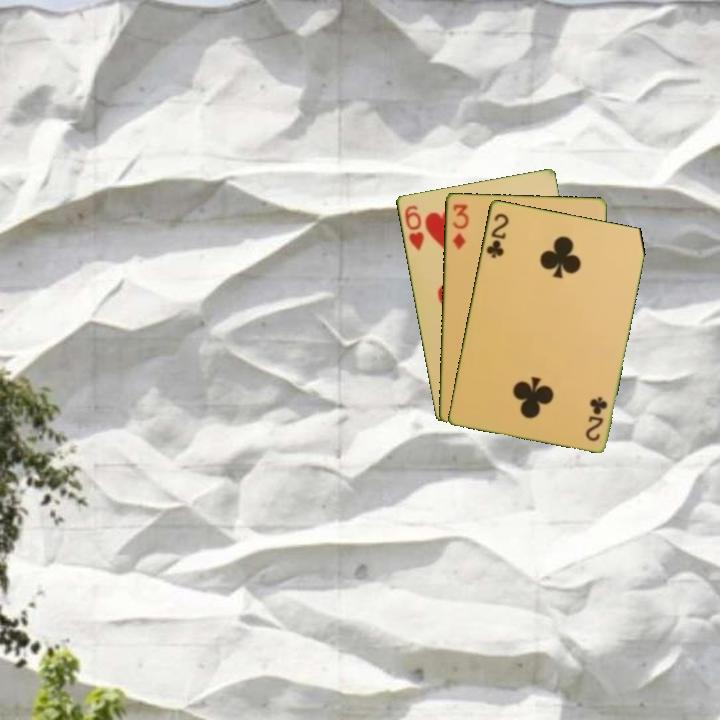2c: (482, 209, 511, 261), (582, 393, 610, 444)
3d: (449, 200, 471, 252)
6h: (401, 201, 427, 254)
